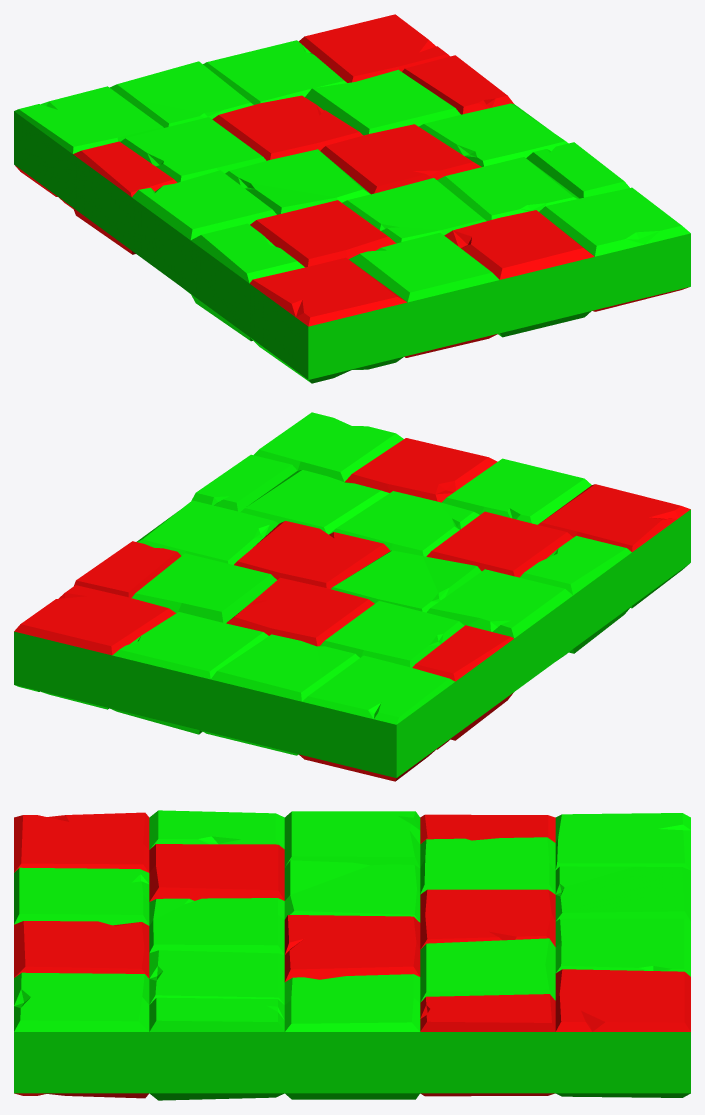
Rendered from SM_Floor_1.fbx.
The picture shows the model from 3 angles, top to bottom: view 1: azimuth 30°, elevation 25°; view 2: azimuth 150°, elevation 25°; view 3: azimuth 270°, elevation 25°; orthographic projection. The views are drawn at different scales.
Visible parts, largest first — view 1: Mesh; view 2: Mesh; view 3: Mesh.
Boxes of the visible parts, x1,y1,x2,y2 form: Mesh: (14,14,690,383); Mesh: (14,412,690,781); Mesh: (14,810,690,1100).
Bounding box in the file's own units: 300 × 55.33 × 400.
